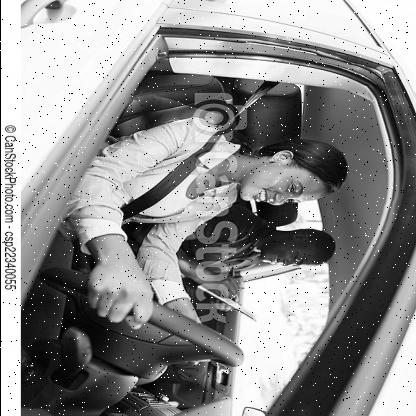seatbelt: (98, 115, 356, 215)
